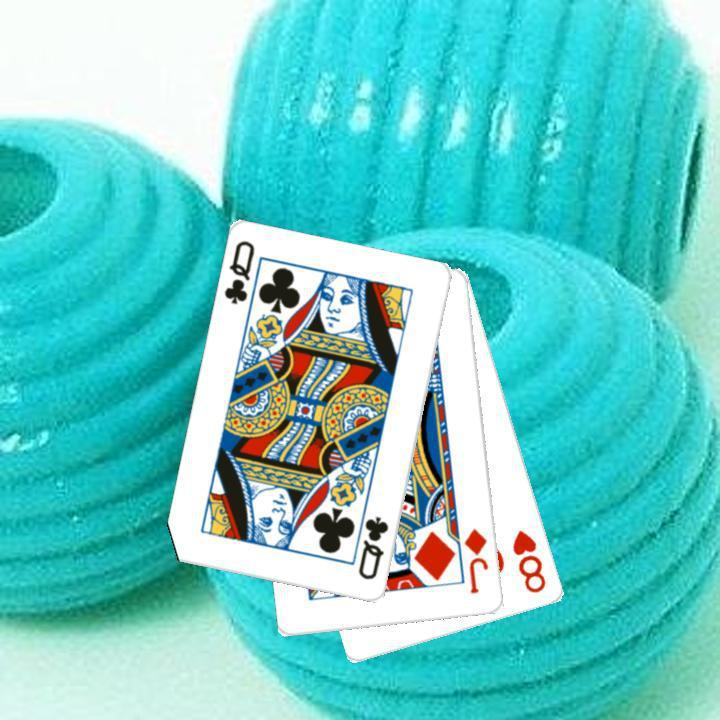8: (508, 525, 549, 596)
J: (460, 524, 491, 596)
Q: (220, 236, 257, 307), (354, 512, 391, 582)
